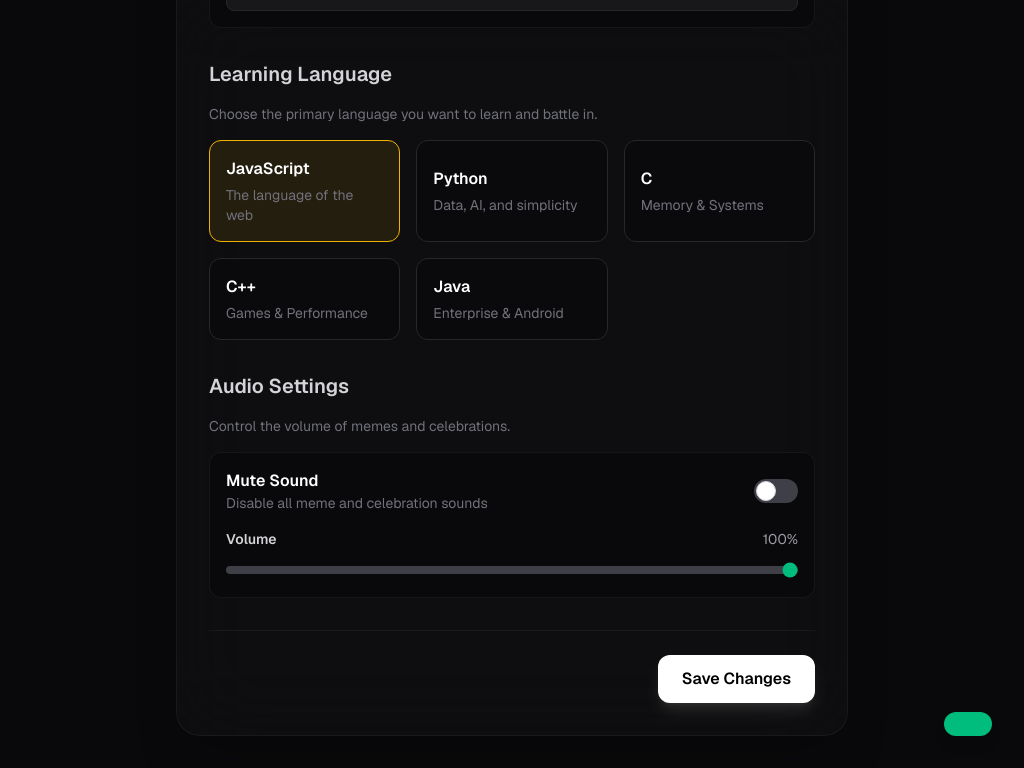
Settings Page — Supabase Integration › shows error toast when Supabase update fails
The image size is (1024, 768).
(page scrolled)
Click the button "Save Changes". click: (736, 679)
box: [658,655,815,703]
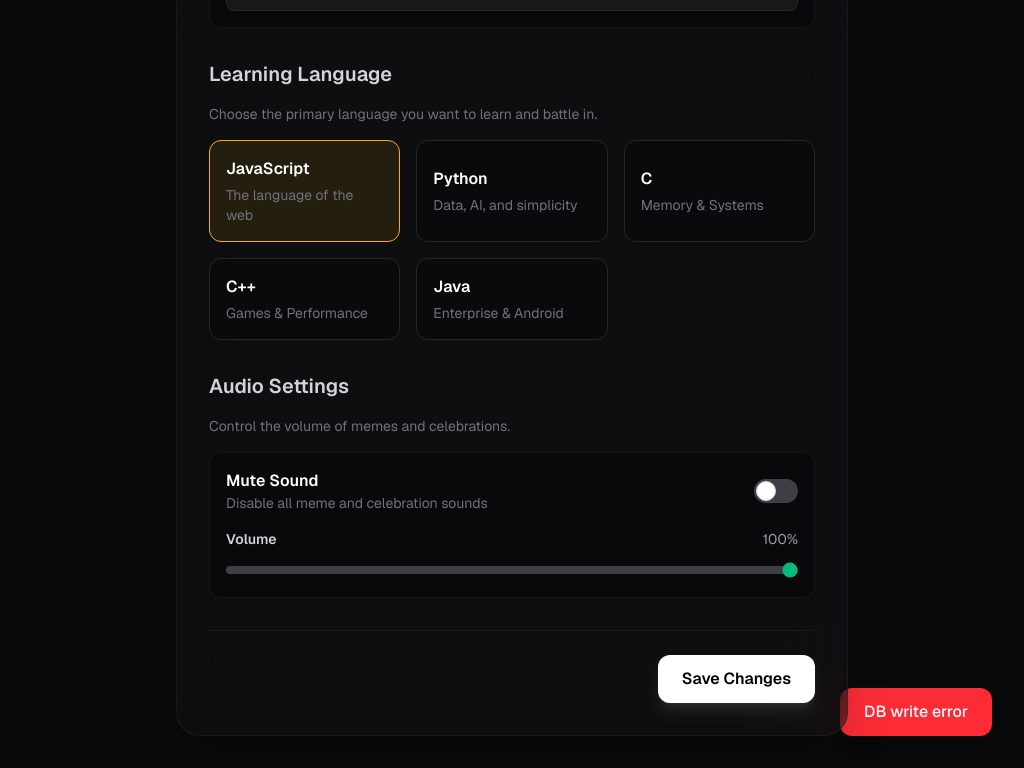
Check: the text "DB write error" is shown, box [840,688,992,736]
